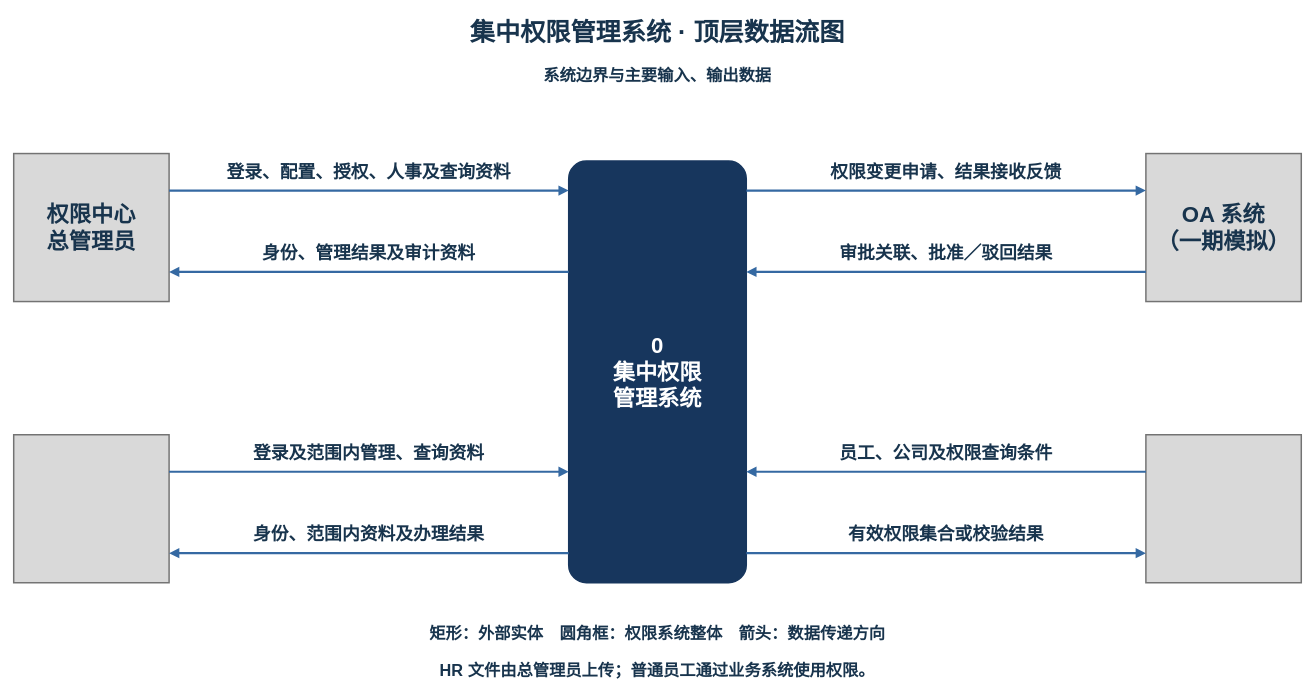
Image size: 1314x699. Some labels were removed from this diagram. Here are the shapes that lost their labels. From the top down, the centre of each, then its label:
At point (91, 508): "权限管理员".
At point (1223, 508): "业务系统后端".
